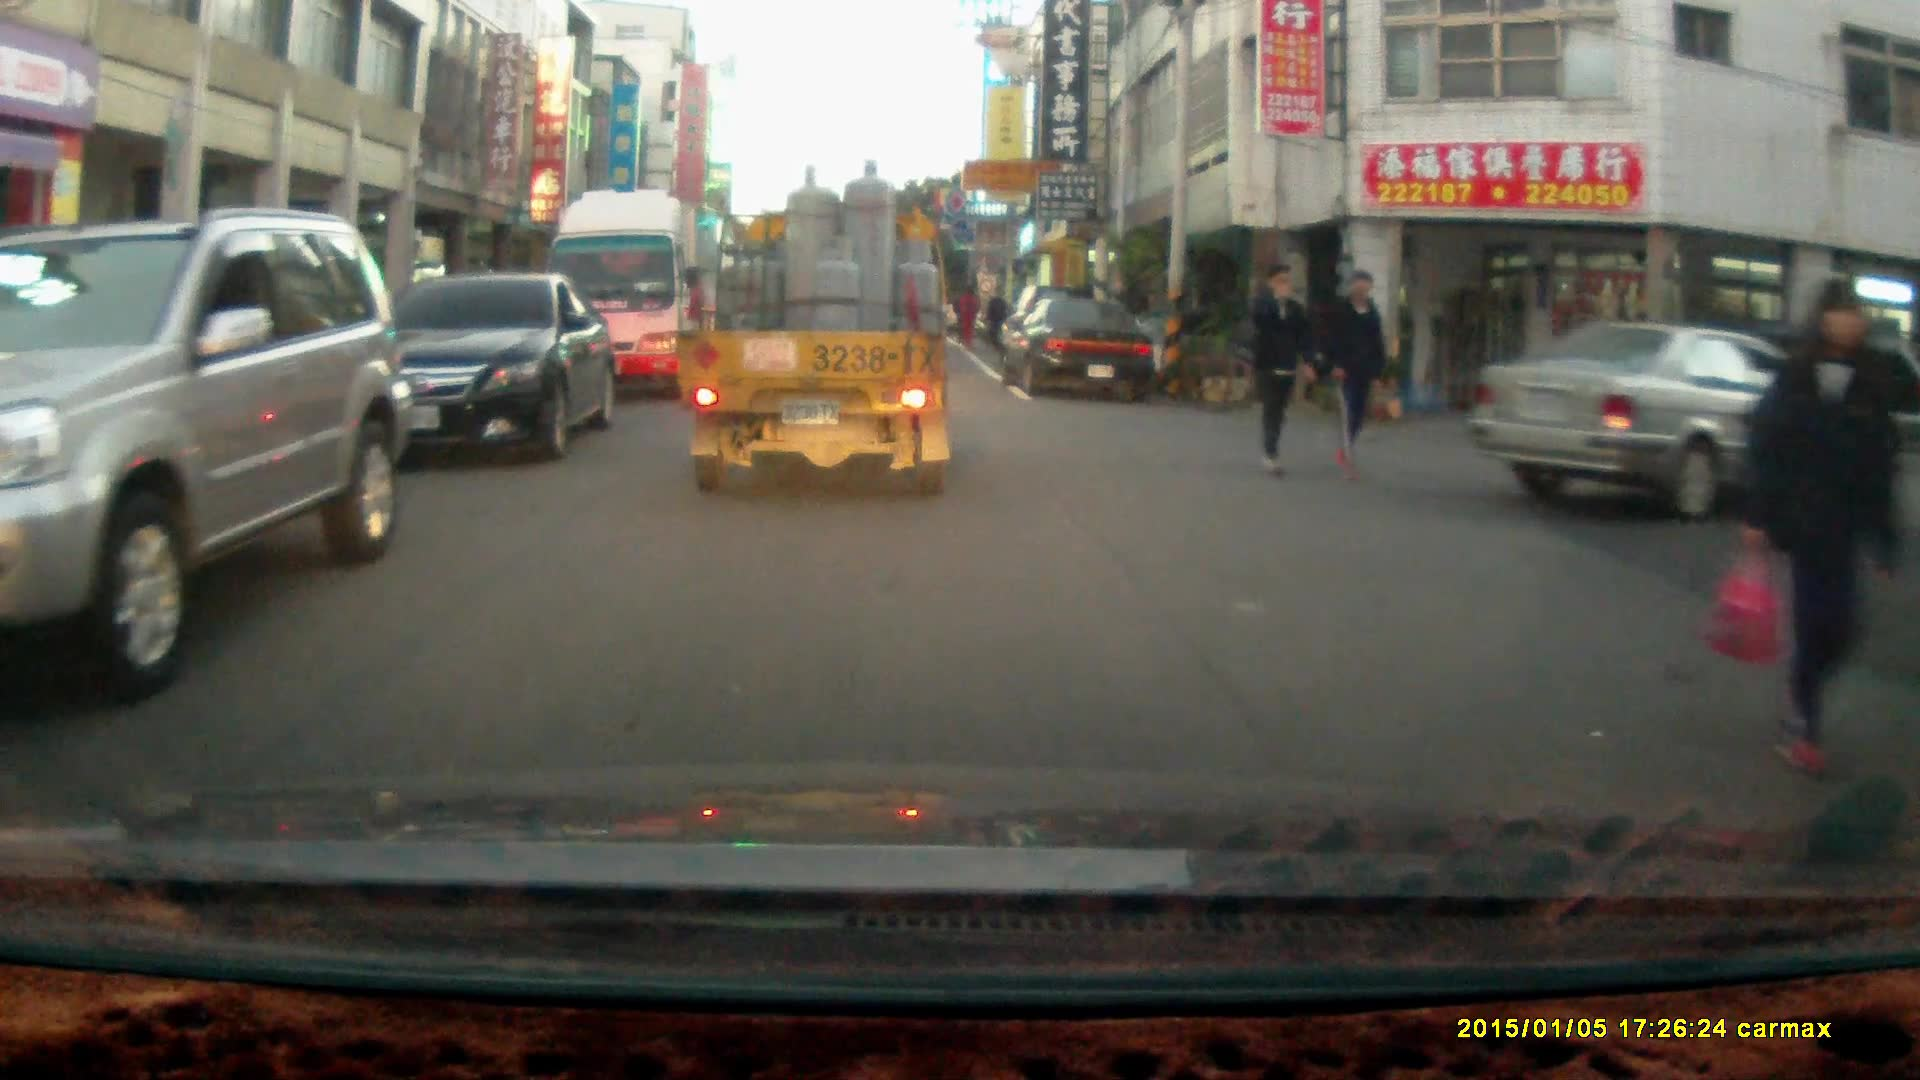pedestrian: (1735, 276, 1905, 787), (1321, 264, 1389, 484), (1249, 254, 1311, 472), (983, 281, 1011, 351), (955, 281, 980, 350)
vehicle: (1, 207, 418, 699), (679, 161, 958, 502), (1465, 319, 1872, 523), (323, 274, 622, 469), (542, 183, 725, 403), (995, 292, 1159, 402)
